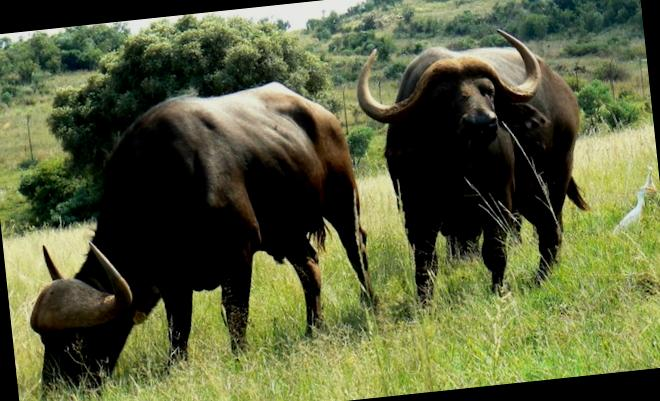Buffalo: (0, 4, 617, 401)
